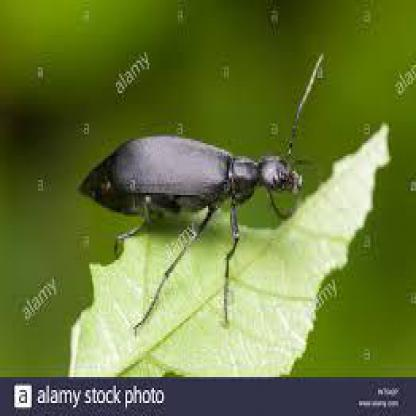blister beetle: (75, 55, 319, 332)
